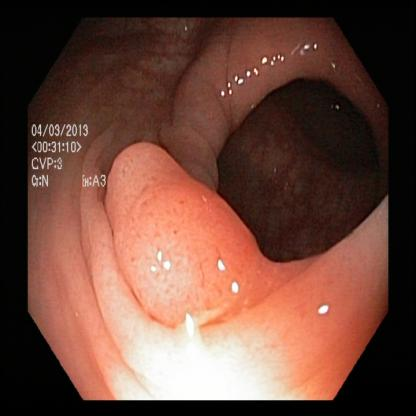Labels: (29, 120, 106, 198)
Polyps: (110, 133, 252, 320)
